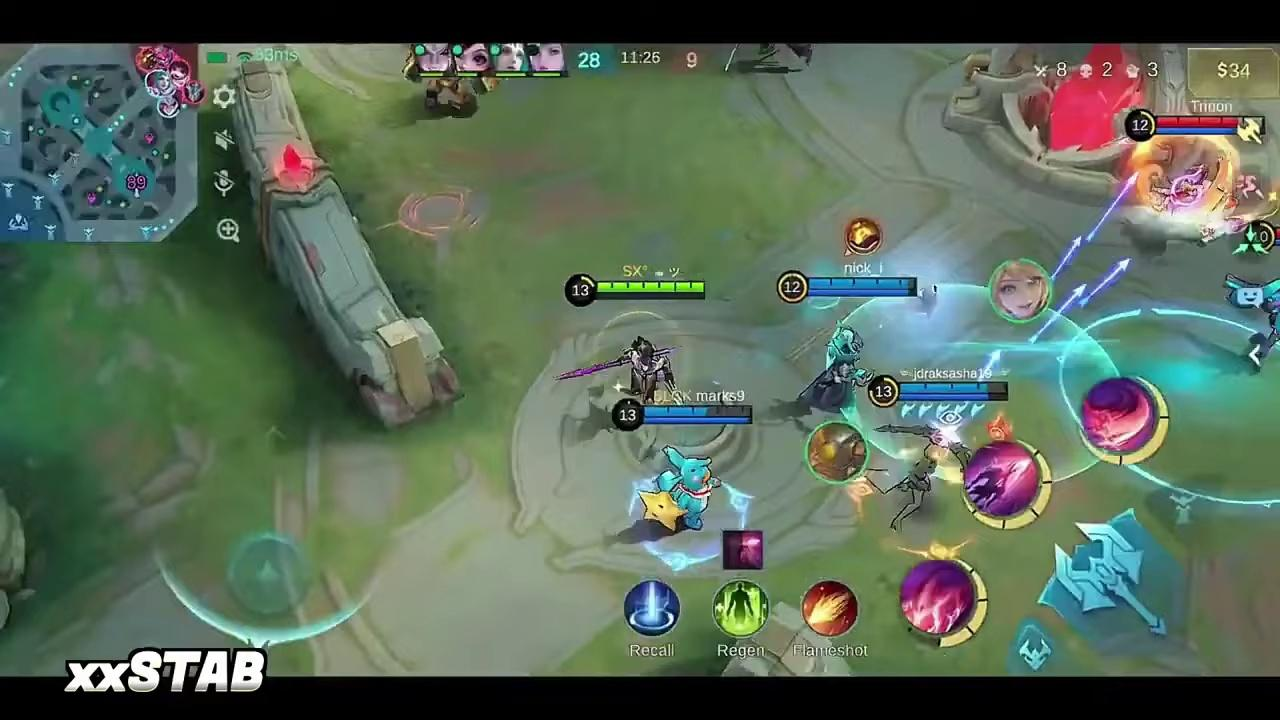hp_enemy: (1159, 118, 1239, 127)
hp_self: (597, 282, 703, 292)
tron_enemy: (928, 31, 1219, 224)
